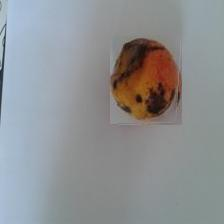Mango Rotten: (111, 37, 183, 126)
